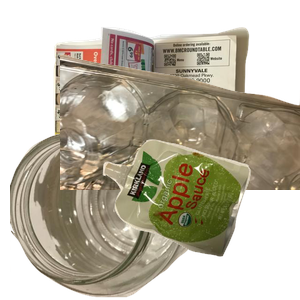glass: (10, 126, 216, 300)
paper: (51, 24, 291, 204)
plastic: (60, 52, 300, 232)
trash: (100, 137, 300, 300)
